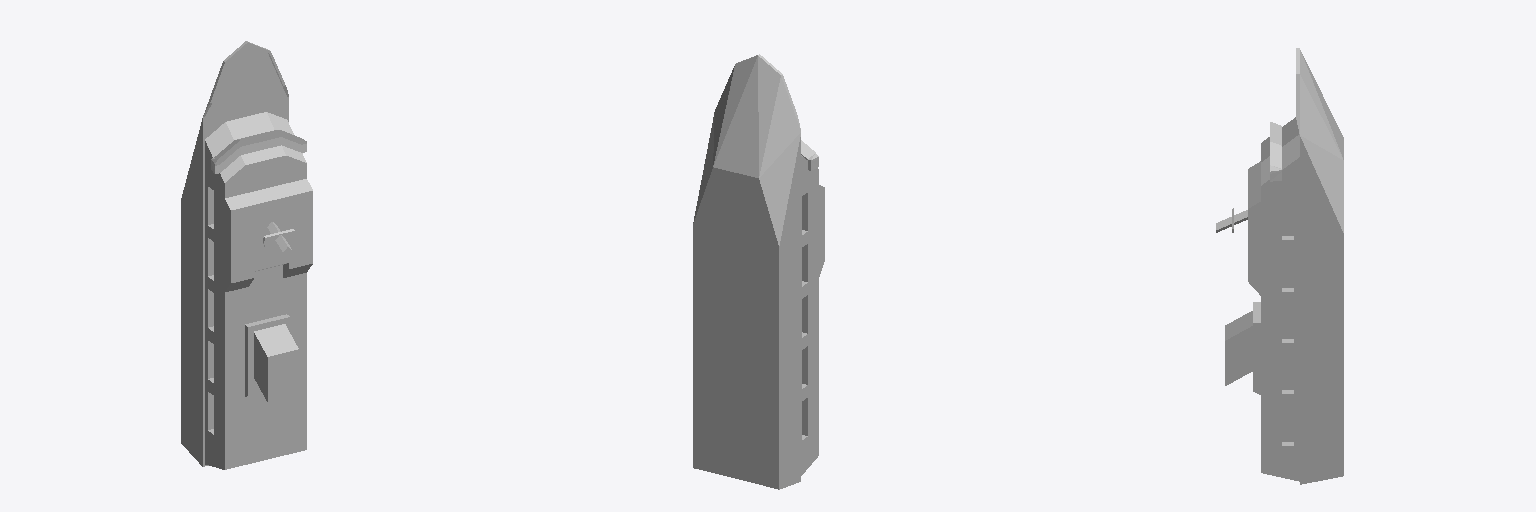
Rendered from ship.obj.
The picture shows the model from 3 angles: view 1: azimuth 30°, elevation 25°; view 2: azimuth 150°, elevation 25°; view 3: azimuth 270°, elevation 25°; orthographic projection.
Parts seen in each view (by area): view 1: Box012; view 2: Box012; view 3: Box012.
Boxes of the visible parts, <box> form: Box012: <box>181,41,312,469</box>; Box012: <box>693,54,824,489</box>; Box012: <box>1216,48,1343,484</box>.
Size of the model in its own units: 22.13 by 95.6 by 26.67.